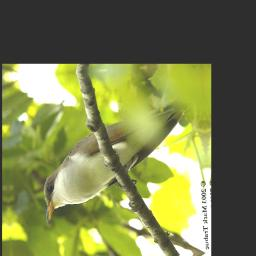Cuckoo: (38, 97, 194, 226)
